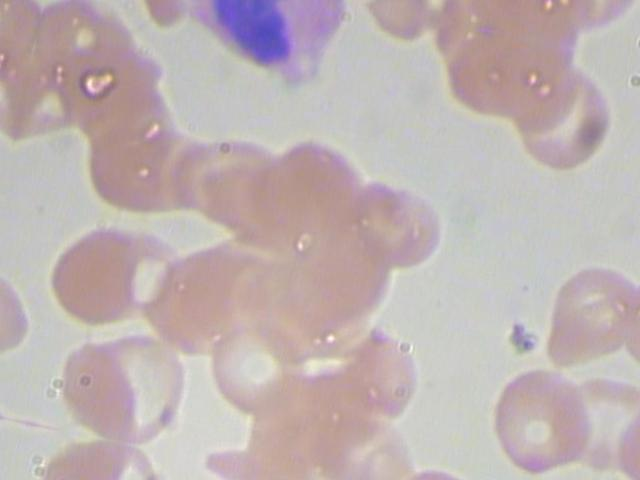Platelets: (0, 259, 46, 373)
RBC: (490, 46, 633, 188), (35, 205, 170, 341), (190, 299, 324, 429), (476, 351, 610, 480), (40, 327, 165, 445), (530, 248, 640, 382), (332, 163, 457, 280), (519, 0, 640, 50)
